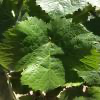grape leaf: (0, 17, 98, 93)
